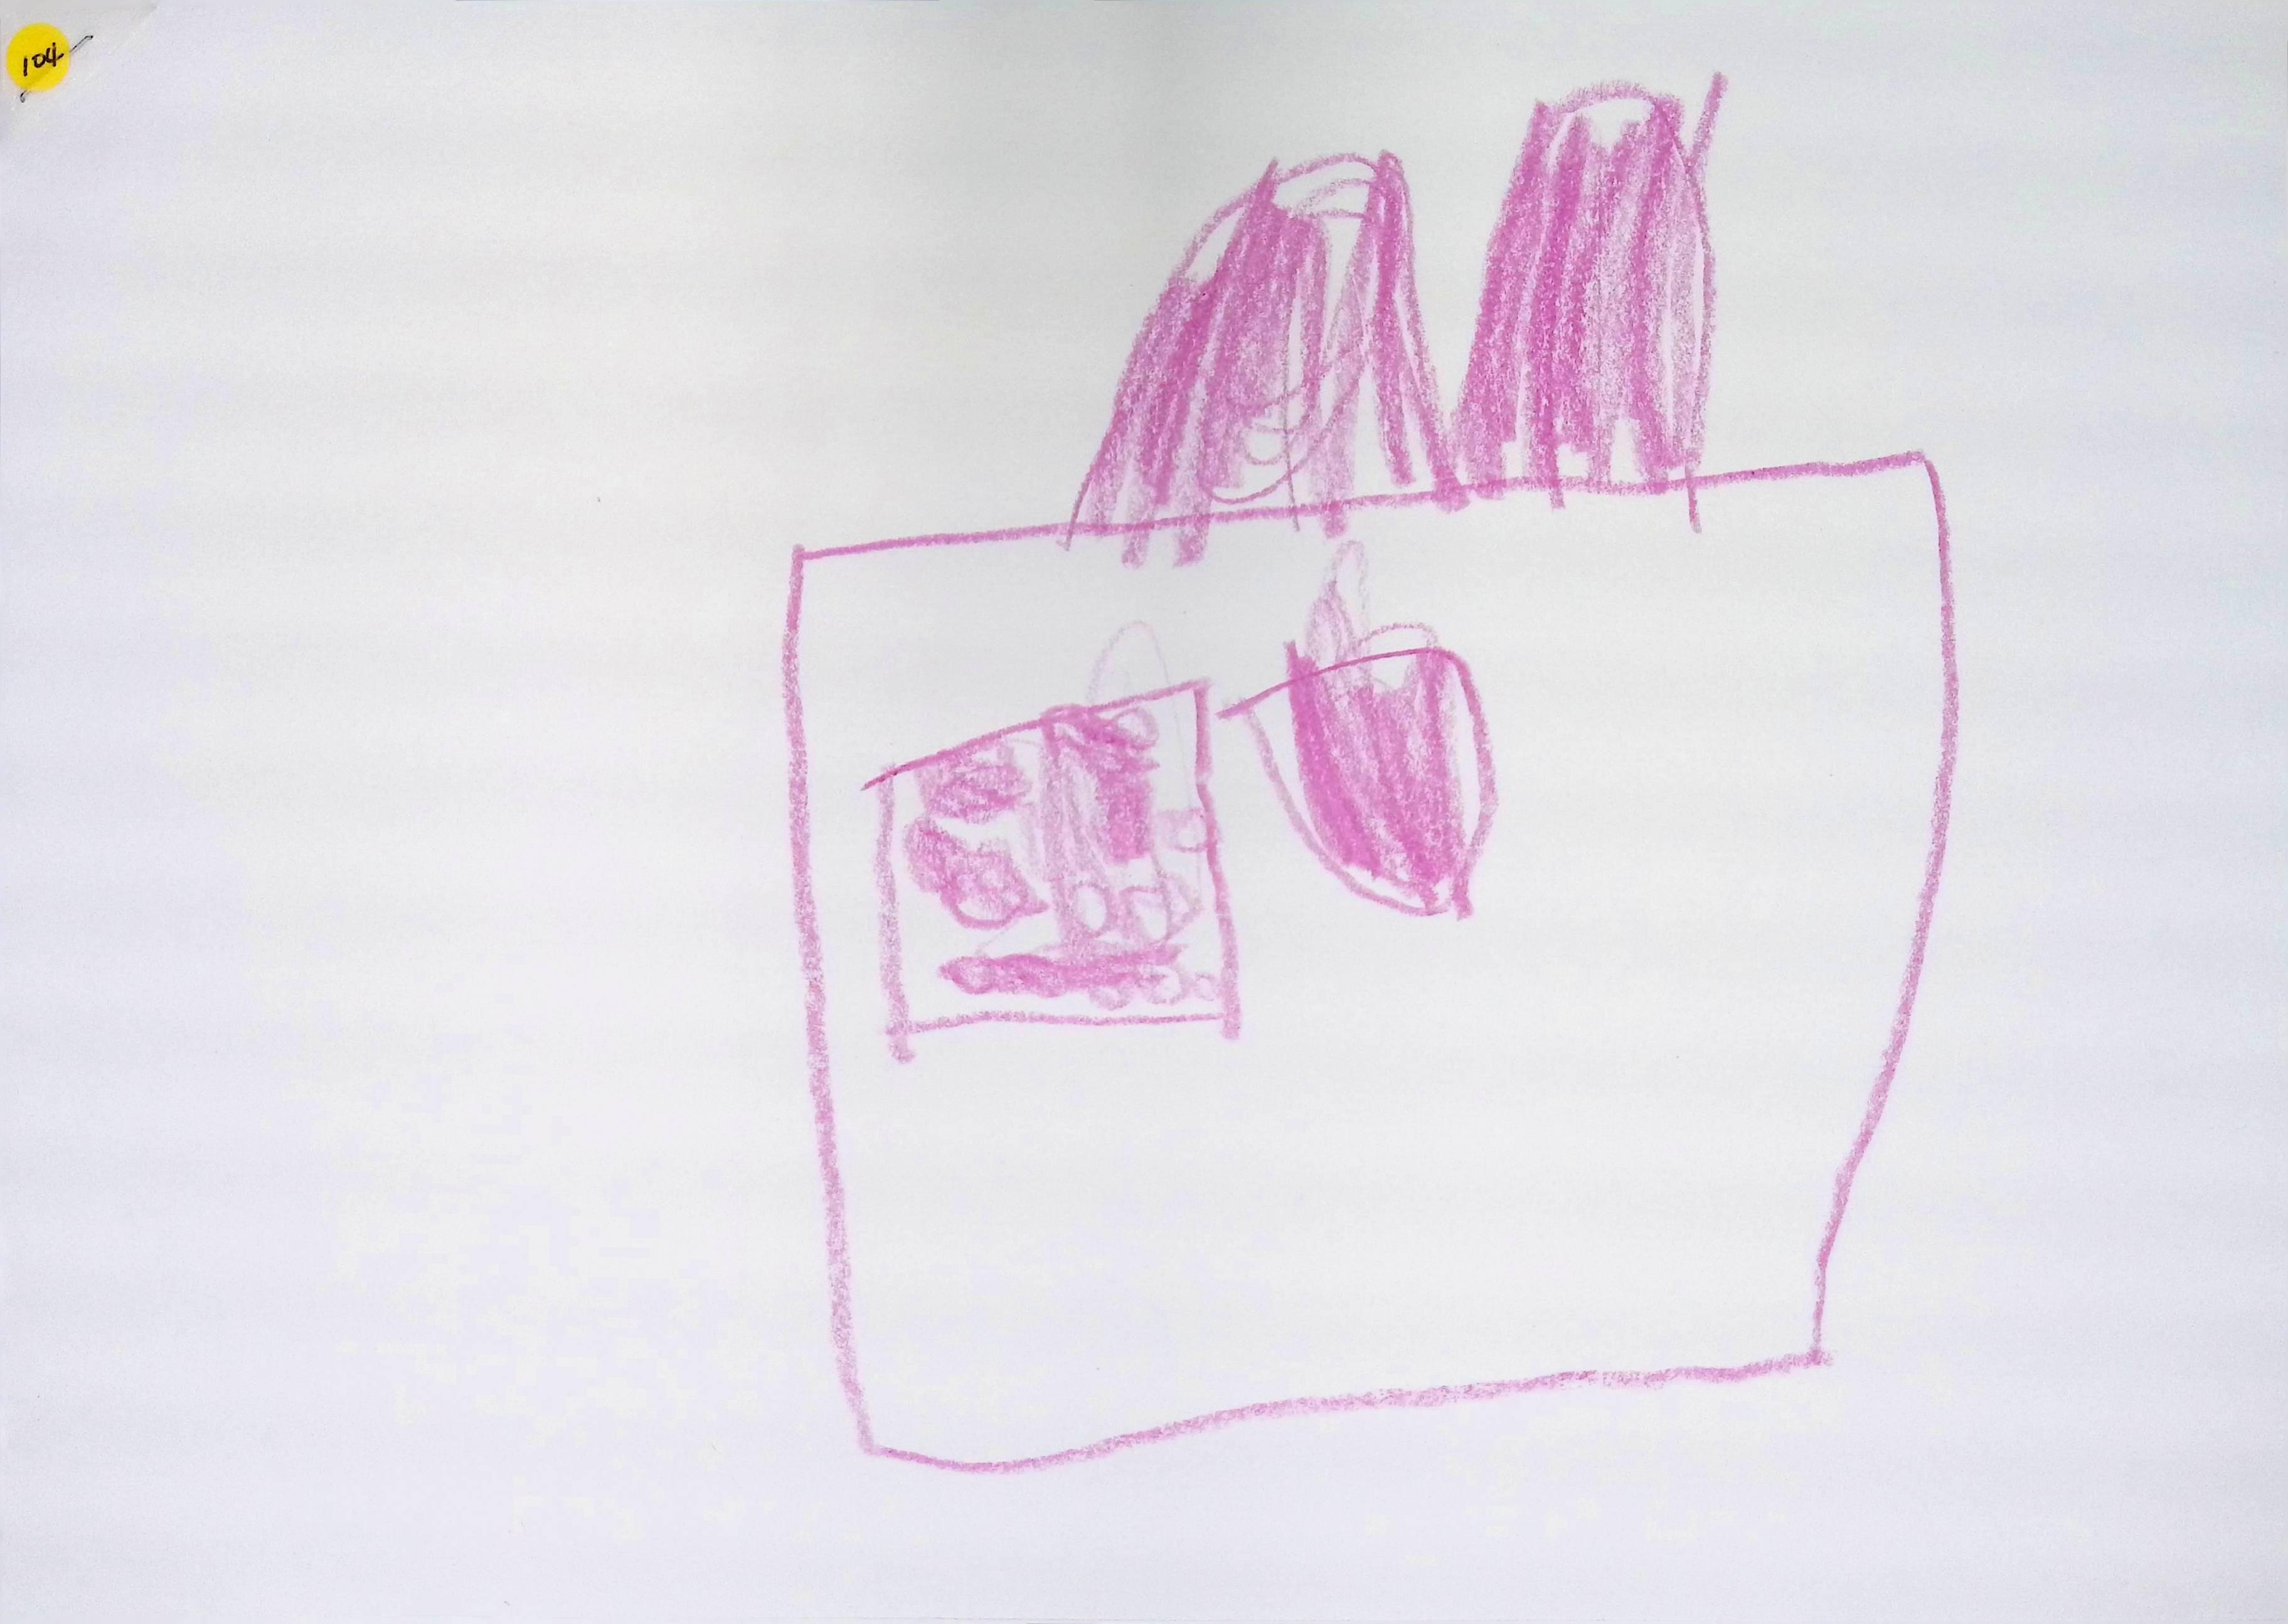chimney: (1462, 84, 1713, 492)
house: (784, 83, 1961, 1473)
roof: (1081, 142, 1466, 522)
wall: (784, 452, 1959, 1471)
window: (870, 682, 1239, 1060)
